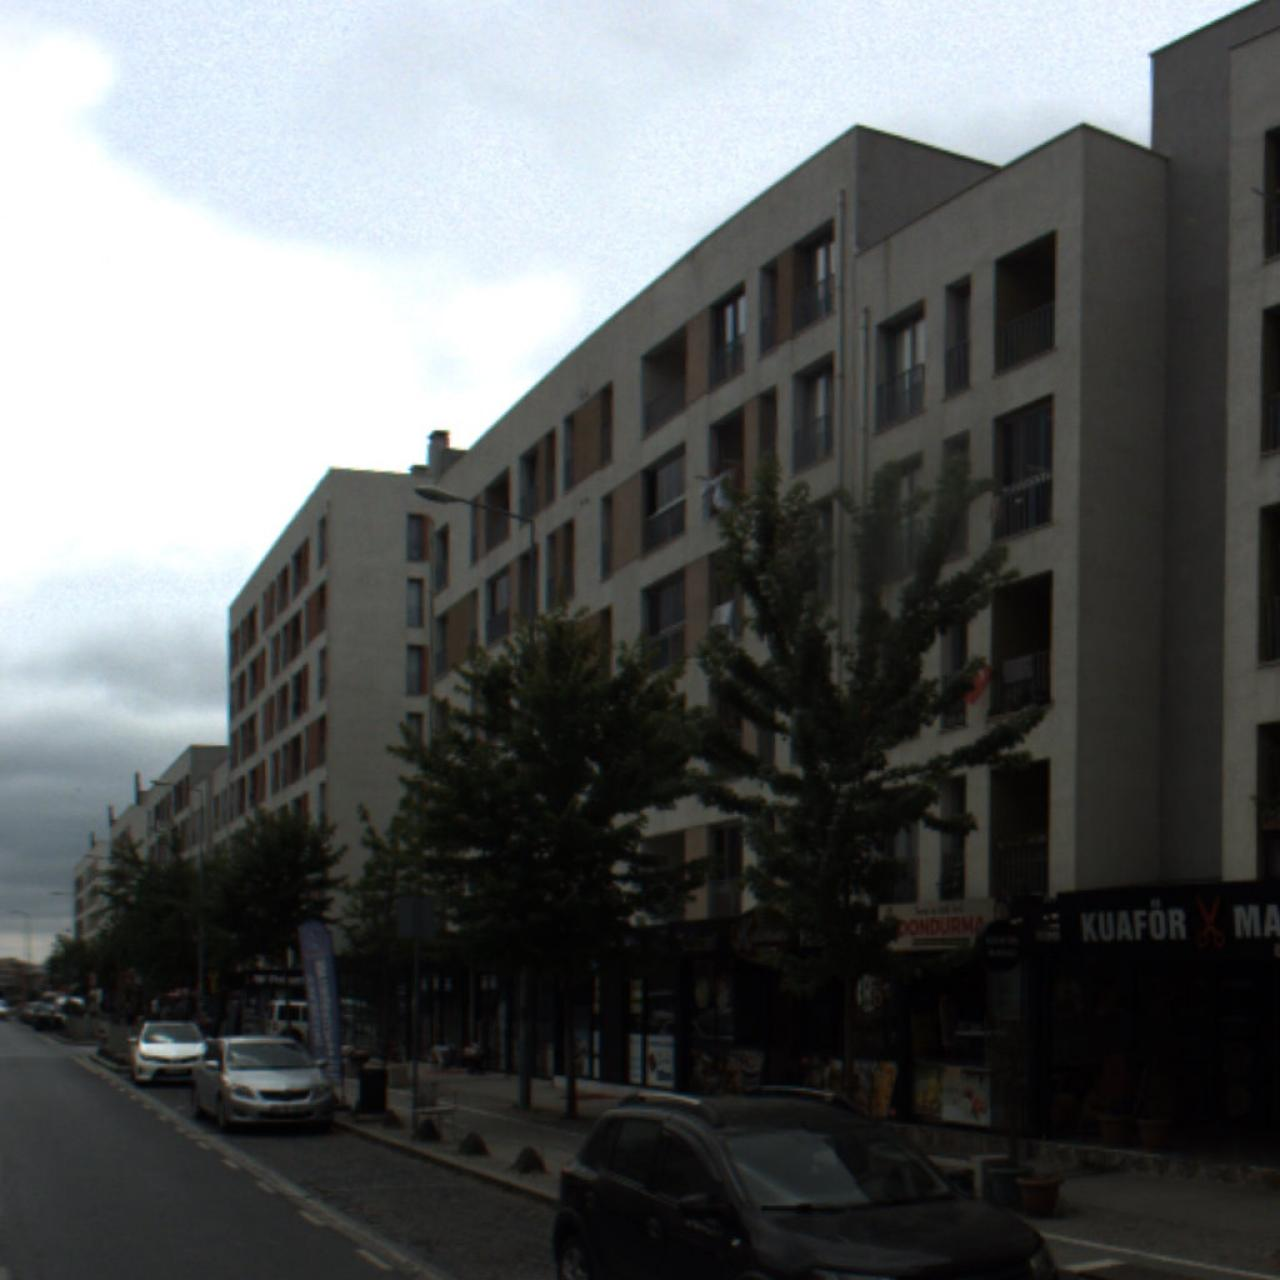SignStore: (1056, 880, 1274, 952), (877, 898, 1022, 971), (669, 906, 794, 966), (239, 969, 306, 987)
